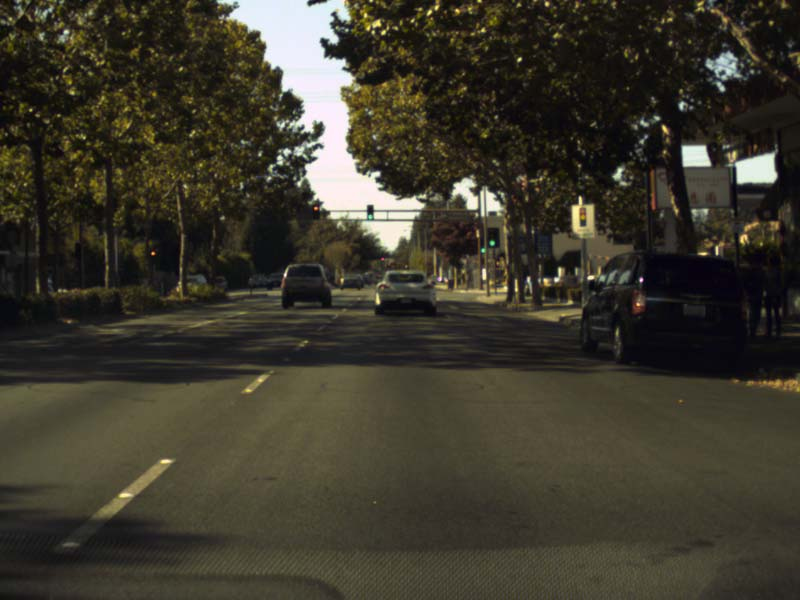Green: (487, 228, 496, 247), (367, 205, 373, 220), (480, 237, 485, 254)
Red: (311, 205, 319, 219), (149, 250, 156, 256), (380, 255, 384, 261)
Yellow: (404, 261, 407, 269)
